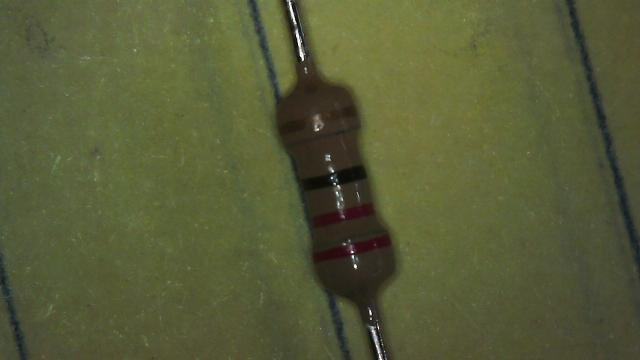black: (300, 166, 366, 192)
gold: (278, 106, 356, 134)
orange: (312, 204, 375, 228)
red: (313, 234, 392, 262)
resistor: (247, 56, 434, 315)
